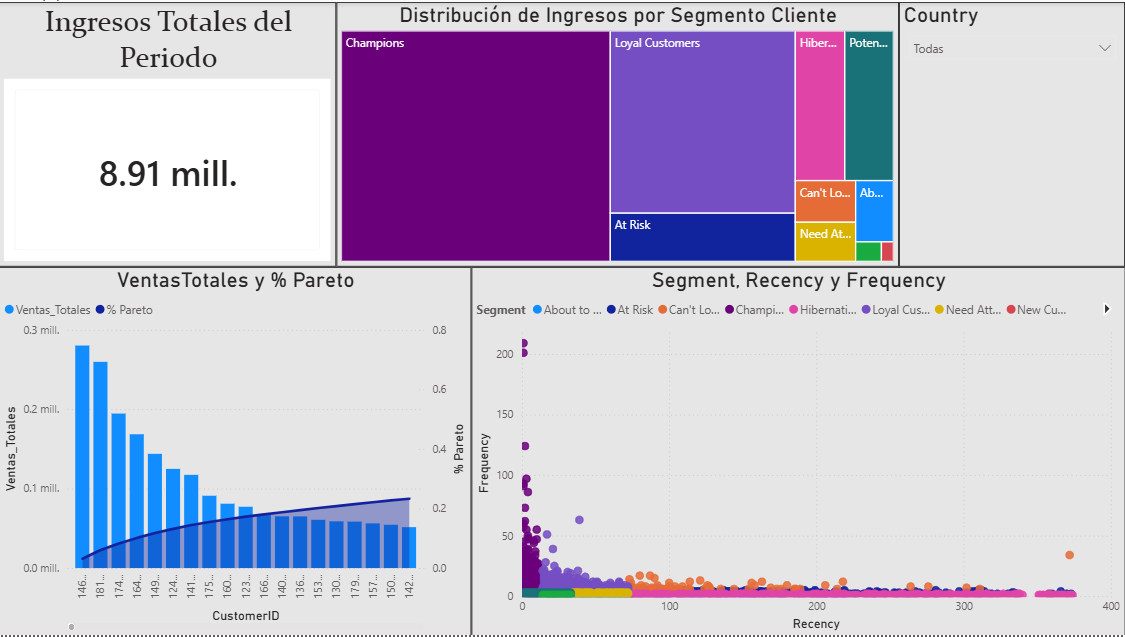

The page's visual inventory and layout, read from the dashboard file:
{"tool":"powerbi","page":{"name":"Página 1","canvas":[1280,720],"ordinal":0},"visuals":[{"type":"cardVisual","title":"Ingresos Totales del Periodo ","fields":{"Data":["online_retail_ii fact_sales_clean.Ventas_Totales"]},"box":[0,0,383.6,301.2],"z":0},{"type":"lineStackedColumnComboChart","title":"VentasTotales y % Pareto","fields":{"Category":["online_retail_ii fact_rfm_segments.CustomerID"],"Y":["online_retail_ii fact_sales_clean.Ventas_Totales"],"Y2":["online_retail_ii fact_sales_clean.% Pareto"]},"box":[0,301.2,537,419.1],"z":1},{"type":"slicer","title":"Country","fields":{"Values":["online_retail_ii fact_sales_clean.Country"]},"box":[1022.9,0,257.1,301.2],"z":2},{"type":"treemap","title":"Distribución de Ingresos por Segmento Cliente","fields":{"Group":["online_retail_ii fact_rfm_segments.Segment"],"Values":["online_retail_ii fact_sales_clean.Ventas_Totales"]},"box":[383.6,0,639.3,301.2],"z":3},{"type":"scatterChart","fields":{"X":["online_retail_ii fact_rfm_segments.Recency"],"Y":["online_retail_ii fact_rfm_segments.Frequency"],"Series":["online_retail_ii fact_rfm_segments.Segment"]},"box":[537,301.2,743,419.1],"z":4}]}

Visuals, with their boxes in screenshot pixels (x1, y1, x2, y2), scaled from the page's 1280x720 canvas onto the 1125x637 screenshot:
"Ingresos Totales del Periodo " cardVisual: {"x1": 0, "y1": 0, "x2": 337, "y2": 266}
"VentasTotales y % Pareto" lineStackedColumnComboChart: {"x1": 0, "y1": 266, "x2": 472, "y2": 636}
"Country" slicer: {"x1": 899, "y1": 0, "x2": 1124, "y2": 266}
"Distribución de Ingresos por Segmento Cliente" treemap: {"x1": 337, "y1": 0, "x2": 899, "y2": 266}
scatterChart - online_retail_ii fact_rfm_segments.Recency x online_retail_ii fact_rfm_segments.Frequency: {"x1": 472, "y1": 266, "x2": 1124, "y2": 636}
